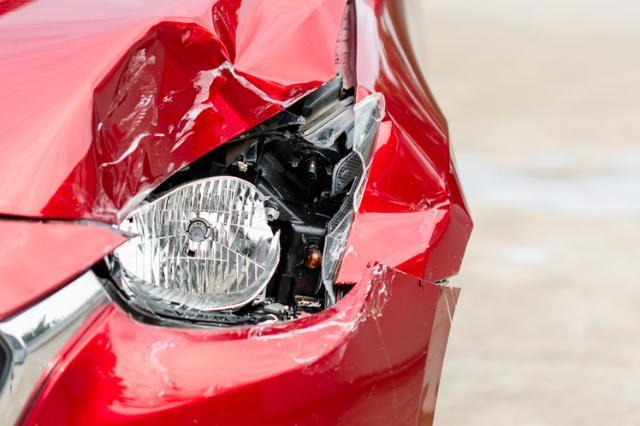Bonnet: (18, 0, 349, 221)
Bumper: (0, 118, 477, 426)
Light: (99, 71, 382, 326)
